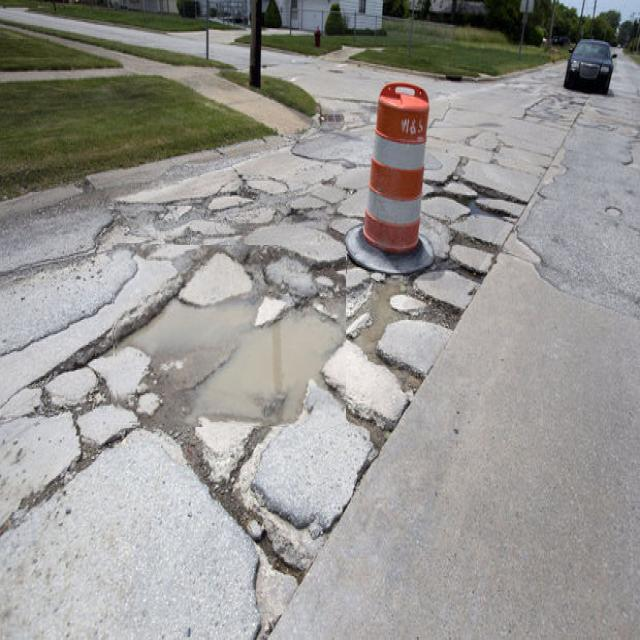Pothole: (111, 245, 346, 428)
